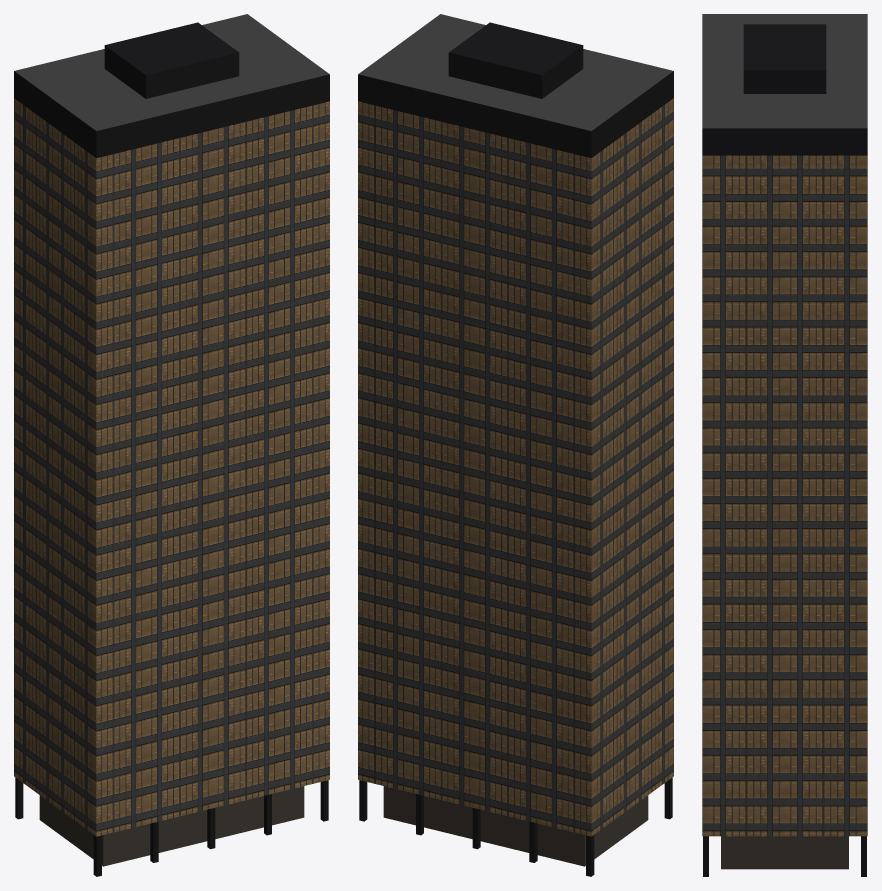
The model's file is gen_mid_mies_box.glb.
3 renders of one model, left to right at view 1: azimuth 30°, elevation 25°; view 2: azimuth 150°, elevation 25°; view 3: azimuth 270°, elevation 25°, orthographic.
Parts seen in each view (by area): view 1: gen_mid_mies_box; view 2: gen_mid_mies_box; view 3: gen_mid_mies_box.
Part boxes in pixels (<box>): gen_mid_mies_box: <box>14,14,329,876</box>; gen_mid_mies_box: <box>358,14,673,876</box>; gen_mid_mies_box: <box>702,14,867,876</box>.
Size of the model in its own units: 36 by 114 by 22.
2 materials, 2 textured.
